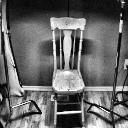chair_success: (36, 7, 96, 128)
